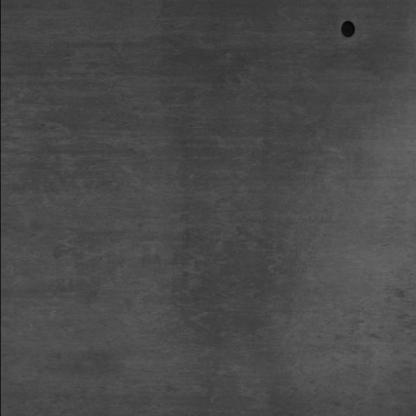punching_hole: (336, 19, 361, 42)
